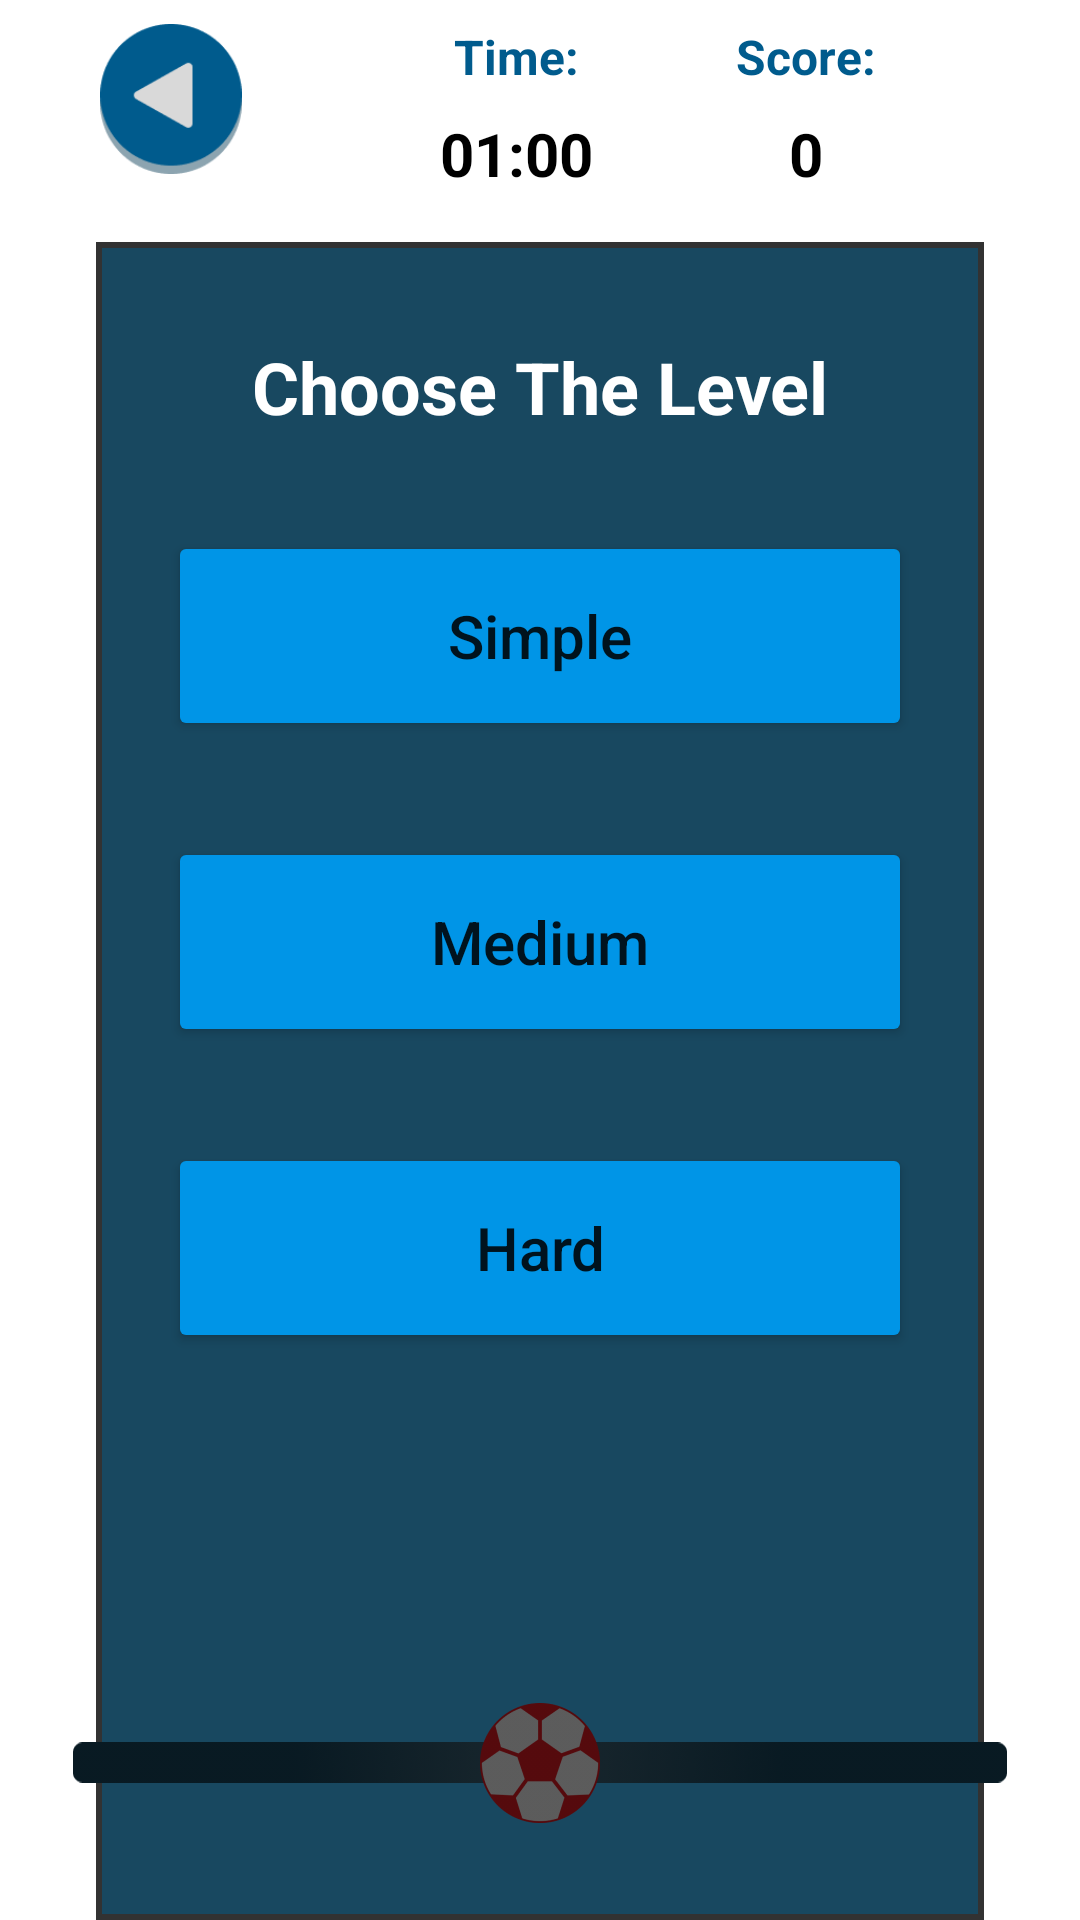

Named icons in this screenshot (1080px×1920px) and their bounding boxes, BBox(x1, y1, x2, y2):
back: BBox(100, 24, 242, 174)
